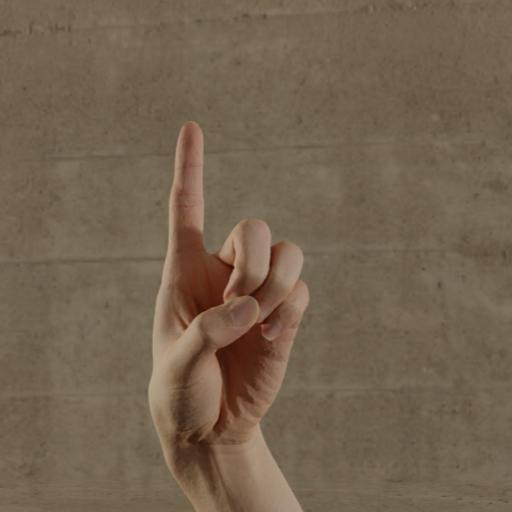D: (104, 108, 332, 486)
